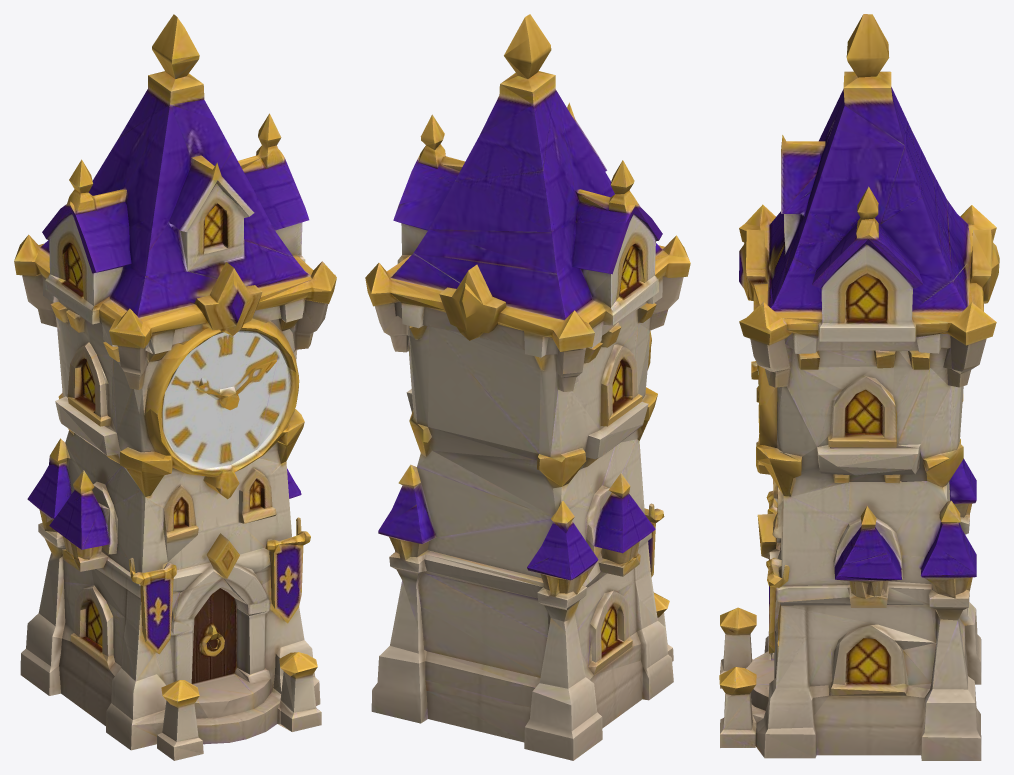
File: clockTower.glb
The picture shows the model from 3 angles, left to right: view 1: azimuth 30°, elevation 25°; view 2: azimuth 150°, elevation 25°; view 3: azimuth 270°, elevation 25°; orthographic projection. The views are drawn at different scales.
Size of the model in its own units: 0.6708 by 1.9 by 0.6927.
Materials: 1 (1 with a texture image).
